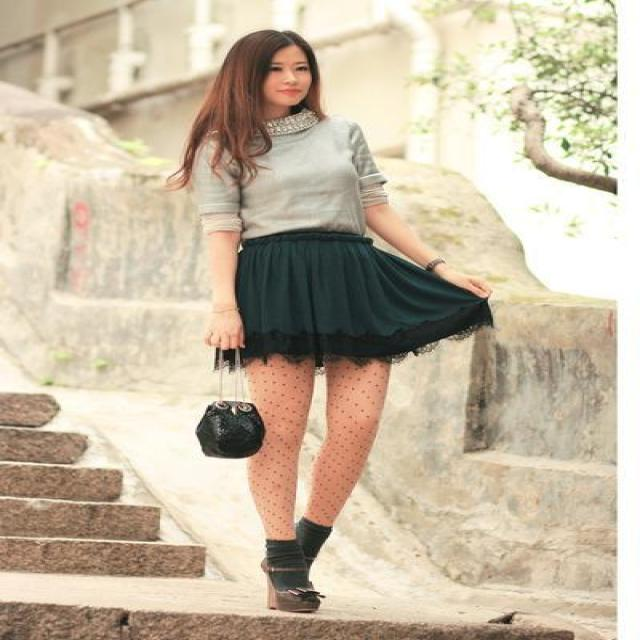bag: (197, 401, 264, 458)
jacket: (187, 115, 386, 242)
shoe: (275, 584, 323, 614)
skirt: (214, 222, 492, 370)
